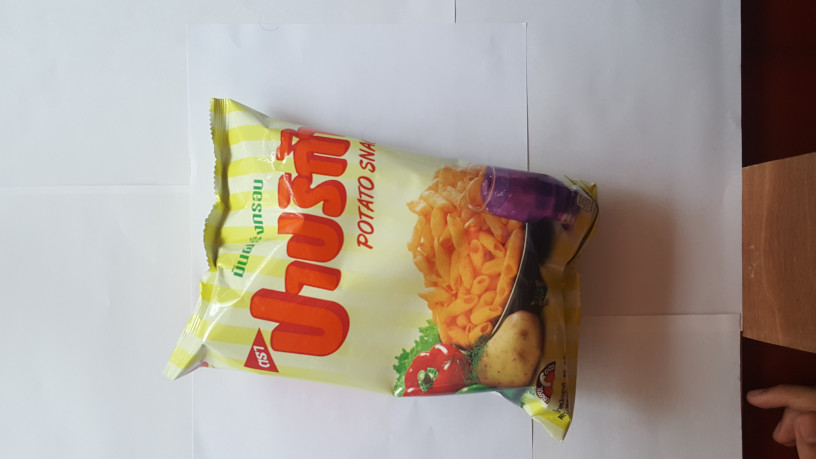paprika: (152, 82, 638, 448)
